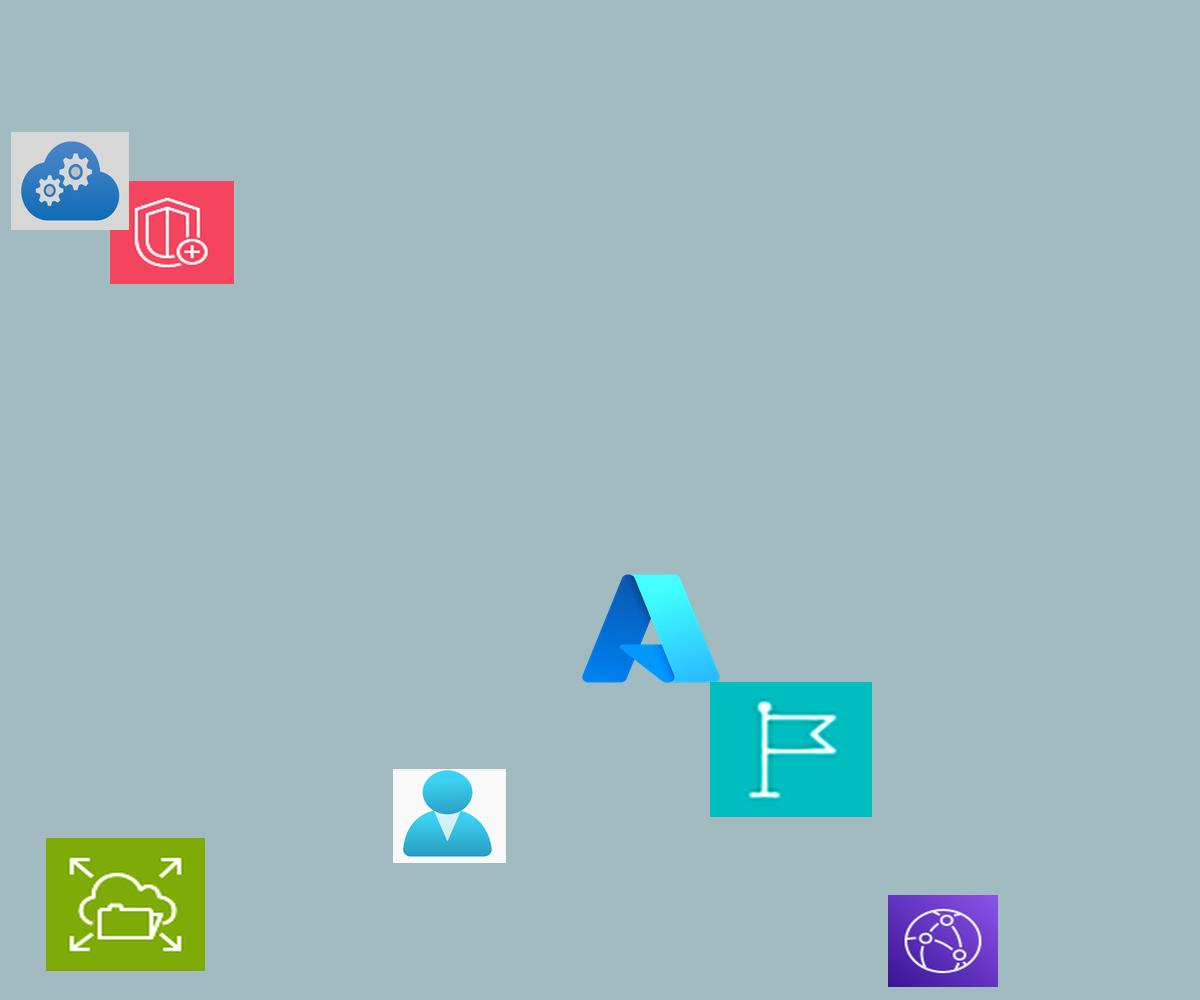AWS-CloudFront: (888, 895, 998, 987)
AWS-EFS: (46, 838, 205, 971)
AWS-Region: (710, 682, 872, 817)
AWS-Shield: (110, 181, 234, 284)
Azure_cloud_services: (11, 132, 129, 230)
Azure_services: (576, 566, 726, 691)
Azure_users: (393, 769, 506, 863)
